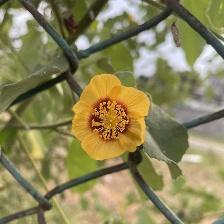indian mallow: (72, 73, 150, 162)
